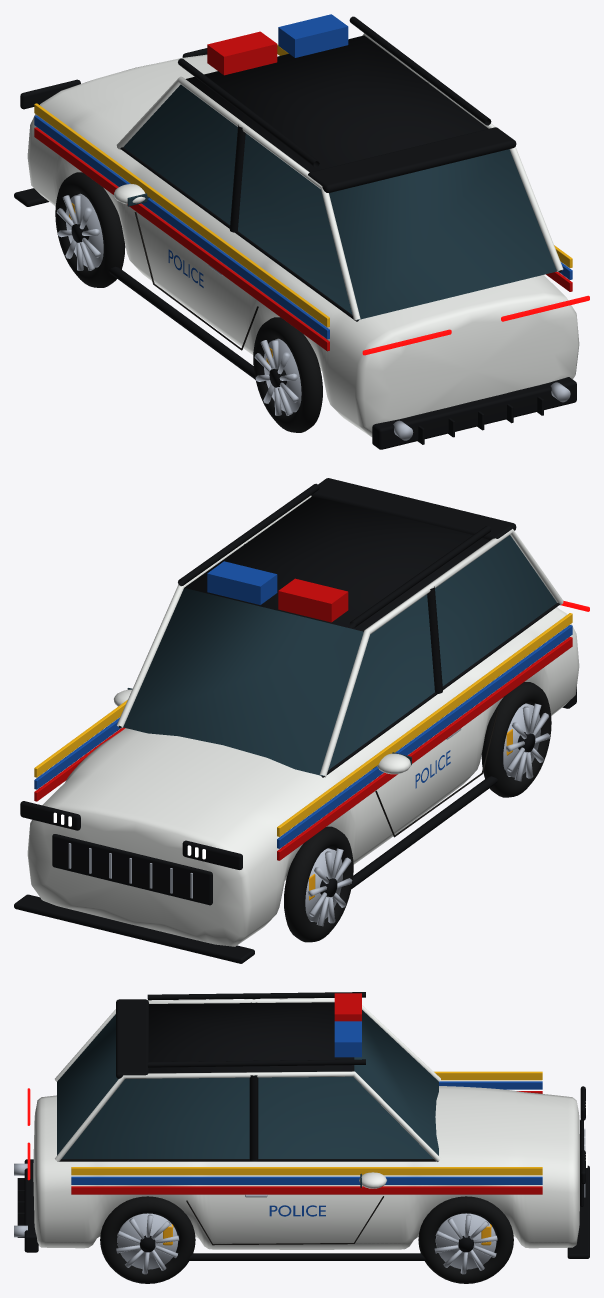
The model's file is police-patrol-suv.glb.
The picture shows the model from 3 angles, top to bottom: view 1: azimuth 30°, elevation 25°; view 2: azimuth 150°, elevation 25°; view 3: azimuth 270°, elevation 25°; orthographic projection. The views are drawn at different scales.
Visible parts, largest first — view 1: Surface_Paint, Surface_Glazing, Surface_Carbon, Surface_Yellow_livery, Tire, Surface_Blue_livery, Surface_Red_livery, Tire.001, Rim_lip, Rim_lip.001, beacon_red, beacon_blue (+2 smaller); view 2: Surface_Paint, Surface_Glazing, Surface_Carbon, Surface_Yellow_livery, Surface_Blue_livery, Surface_Red_livery, Tire.001, Tire, beacon_blue, beacon_red, Rim_lip.001, Rim_lip (+1 smaller); view 3: Surface_Paint, Surface_Glazing, Surface_Carbon, Surface_Yellow_livery, Surface_Blue_livery, Surface_Red_livery, Tire.002, Tire.003, Rim_lip.003, Rim_lip.002, beacon_blue, beacon_red (+2 smaller).
Boxes of the visible parts, left/top/right/bottom form: Surface_Paint: left=27, top=33, right=579, bottom=436; Surface_Glazing: left=123, top=84, right=559, bottom=320; Surface_Carbon: left=14, top=16, right=576, bottom=449; Surface_Yellow_livery: left=34, top=44, right=572, bottom=327; Tire: left=253, top=317, right=322, bottom=432; Surface_Blue_livery: left=34, top=115, right=572, bottom=339; Surface_Red_livery: left=34, top=127, right=572, bottom=351; Tire.001: left=55, top=172, right=125, bottom=287; Rim_lip: left=254, top=338, right=301, bottom=415; Rim_lip.001: left=56, top=193, right=103, bottom=270; beacon_red: left=207, top=31, right=277, bottom=75; beacon_blue: left=278, top=14, right=348, bottom=57; Surface_Paint: left=27, top=495, right=579, bottom=946; Surface_Glazing: left=120, top=535, right=556, bottom=775; Surface_Carbon: left=14, top=478, right=576, bottom=963; Surface_Yellow_livery: left=34, top=613, right=572, bottom=836; Surface_Blue_livery: left=34, top=625, right=572, bottom=848; Surface_Red_livery: left=34, top=637, right=572, bottom=860; Tire.001: left=284, top=826, right=353, bottom=942; Tire: left=481, top=682, right=551, bottom=797; beacon_blue: left=207, top=561, right=277, bottom=604; beacon_red: left=278, top=578, right=348, bottom=622; Rim_lip.001: left=305, top=848, right=352, bottom=926; Rim_lip: left=503, top=703, right=549, bottom=781; Surface_Paint: left=33, top=998, right=579, bottom=1249; Surface_Glazing: left=57, top=1010, right=438, bottom=1187; Surface_Carbon: left=17, top=992, right=589, bottom=1260; Surface_Yellow_livery: left=71, top=1071, right=542, bottom=1175; Surface_Blue_livery: left=71, top=1081, right=542, bottom=1216; Surface_Red_livery: left=71, top=1091, right=542, bottom=1194; Tire.002: left=100, top=1196, right=195, bottom=1283; Tire.003: left=418, top=1196, right=513, bottom=1283; Rim_lip.003: left=434, top=1213, right=497, bottom=1274; Rim_lip.002: left=116, top=1213, right=179, bottom=1274; beacon_blue: left=334, top=1021, right=361, bottom=1057; beacon_red: left=334, top=993, right=361, bottom=1021.
Bounding box in the file's own units: 2.31 × 2.07 × 4.88.
